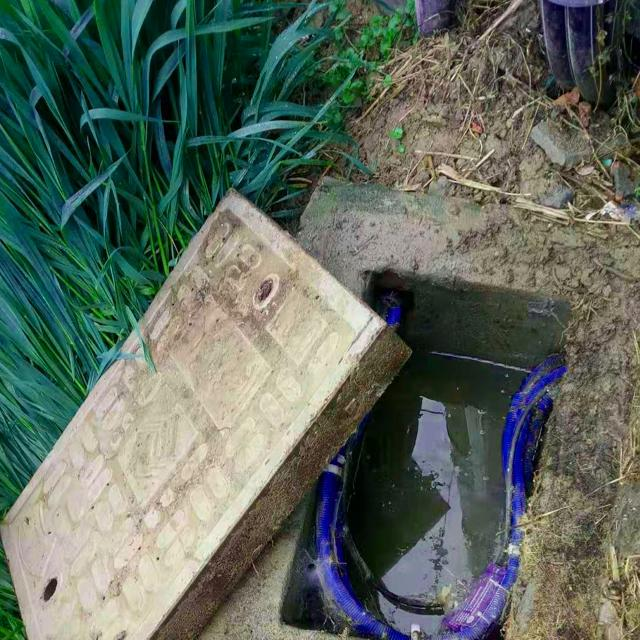uncovered: (0, 176, 637, 640)
